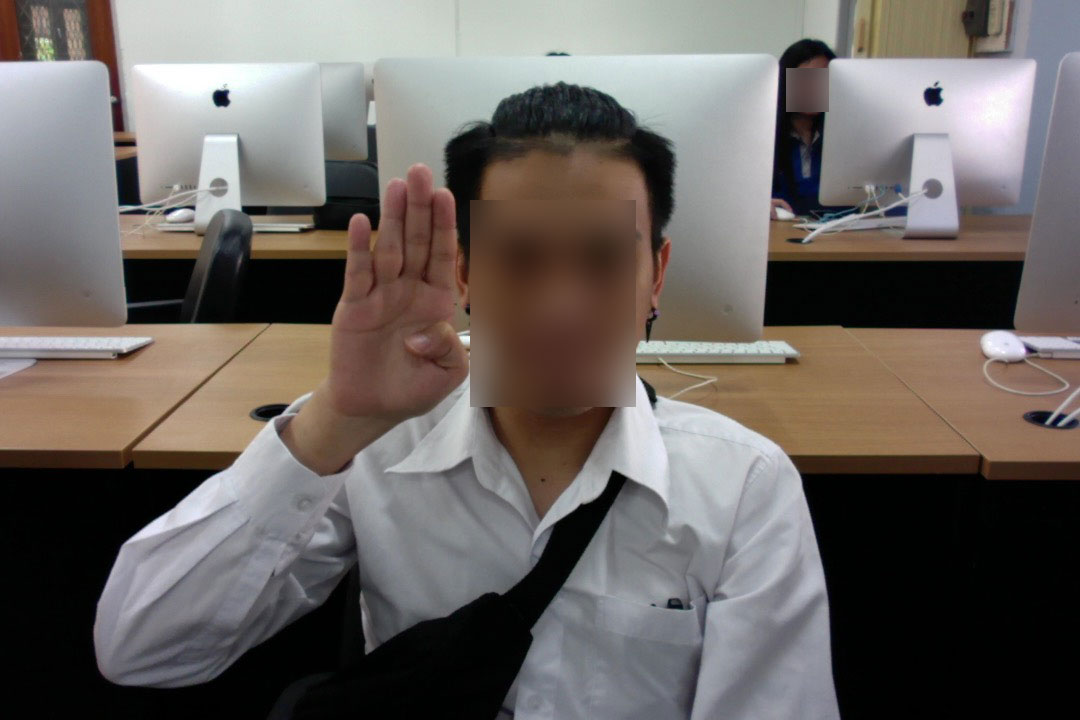bor: (321, 157, 476, 432)
